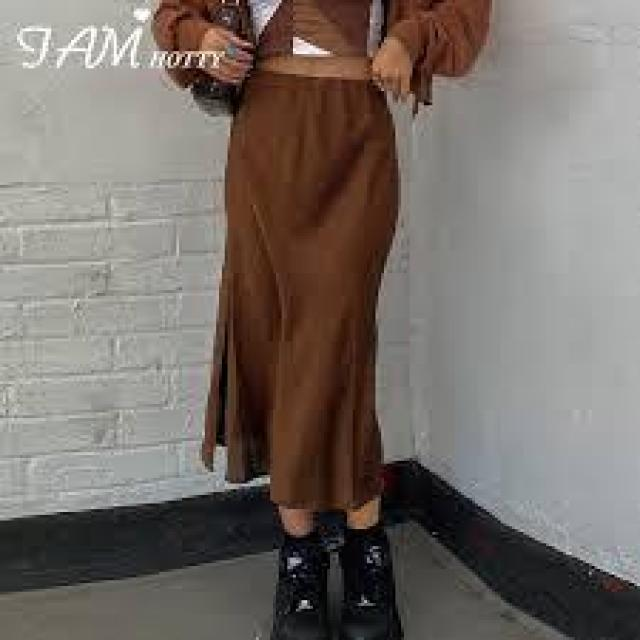skirt: (196, 57, 427, 543)
